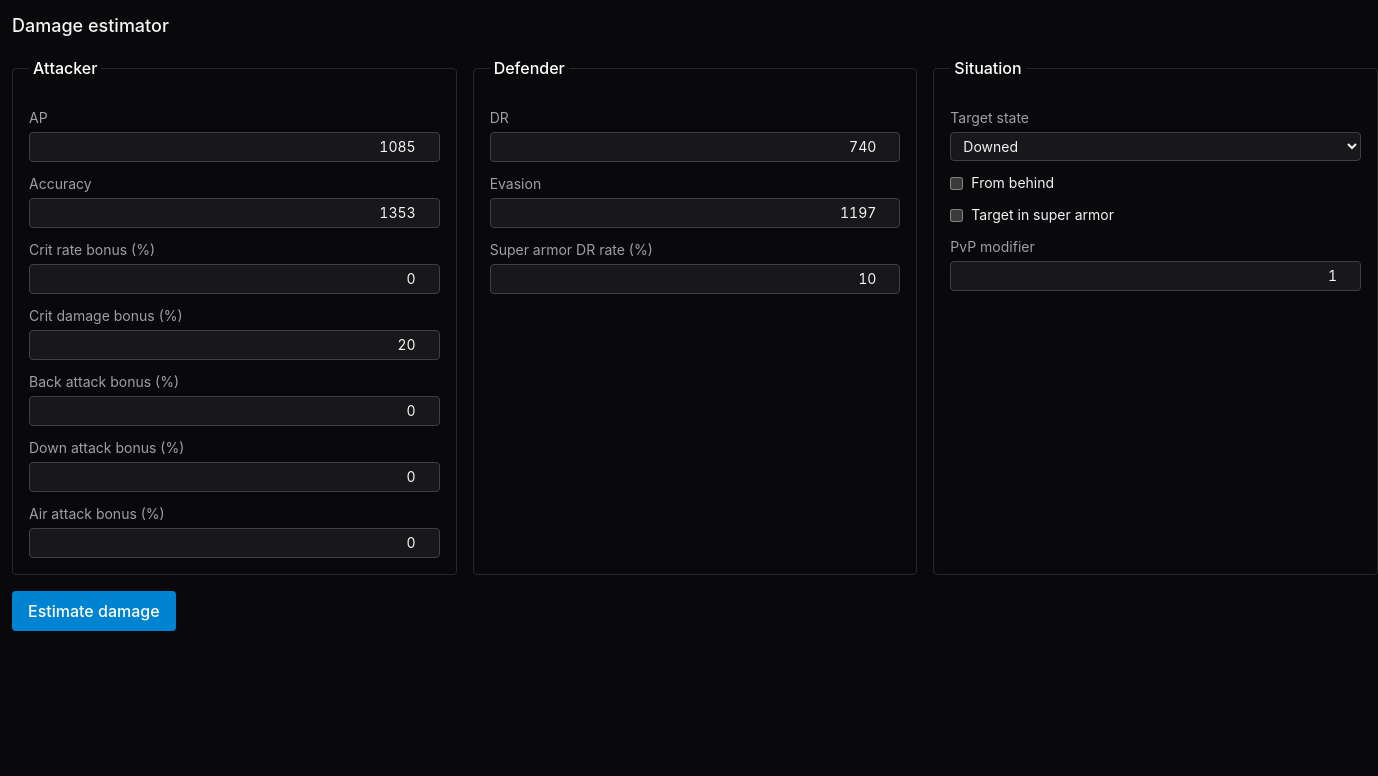
Test case: DamageEstimator › sends the values the user entered
Replace the text in the number field labelled "AP" with "1200": (234, 147) [29, 132, 440, 162]
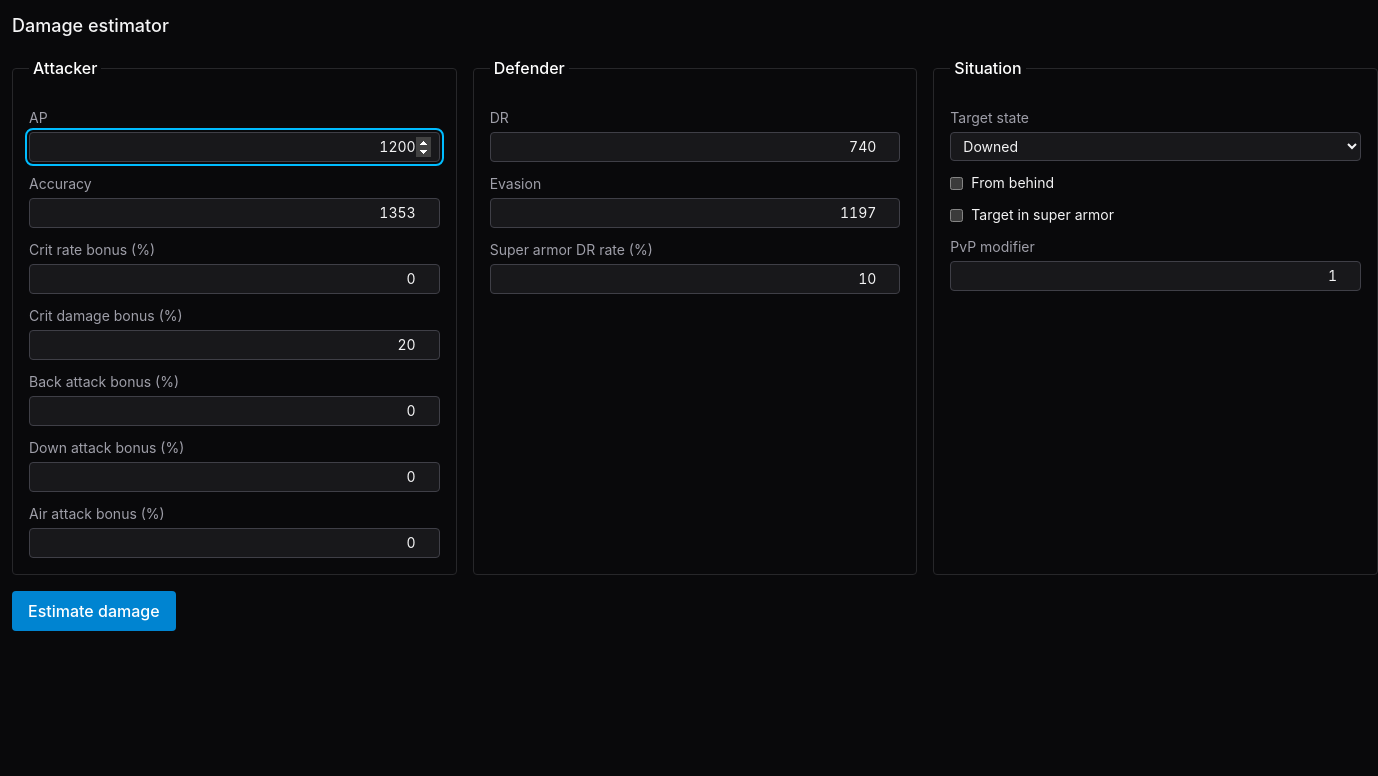
Select "Standing" in the dropdown labelled "Target state": (1156, 146) [950, 132, 1361, 161]
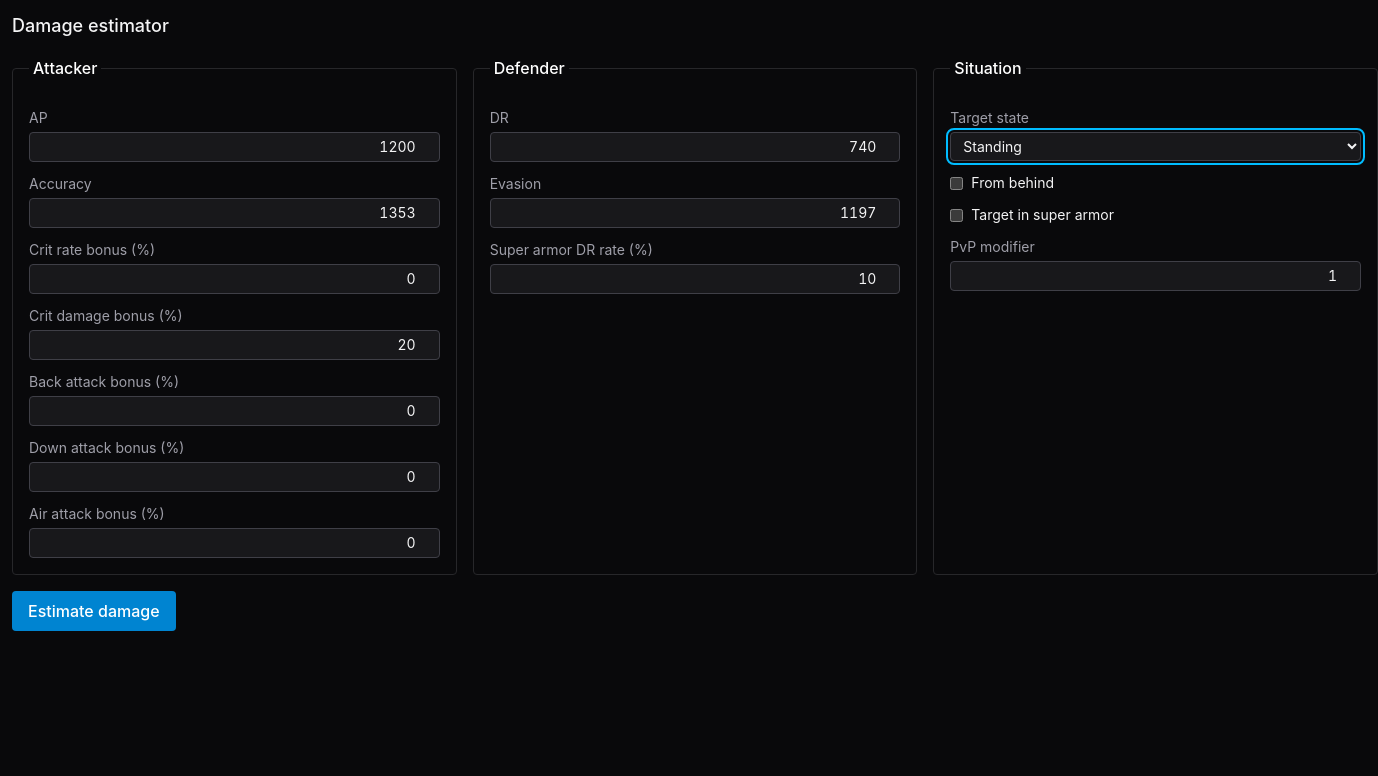
Click the checkbox labelled "From behind": (957, 183) [950, 176, 963, 190]
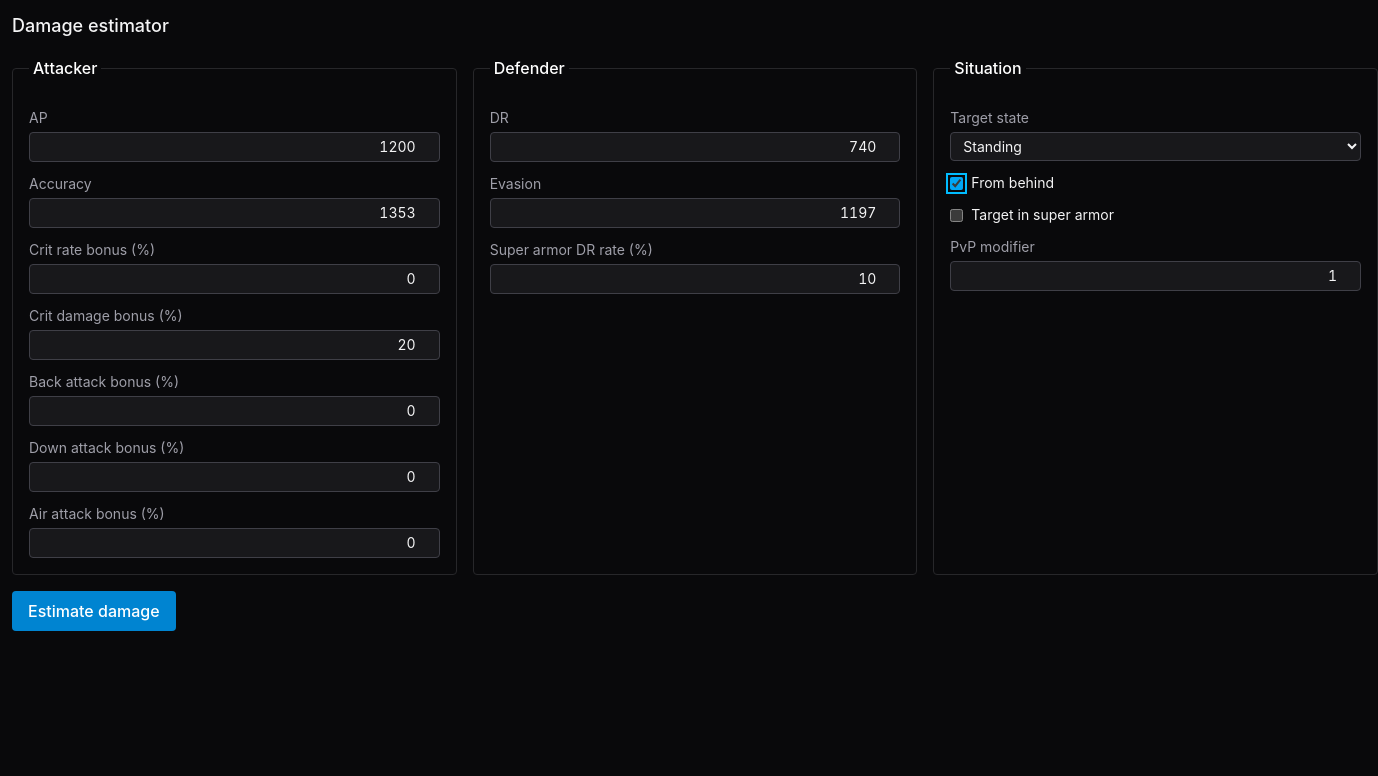
Click the checkbox labelled "Target in super armor": (957, 215) [950, 208, 963, 222]
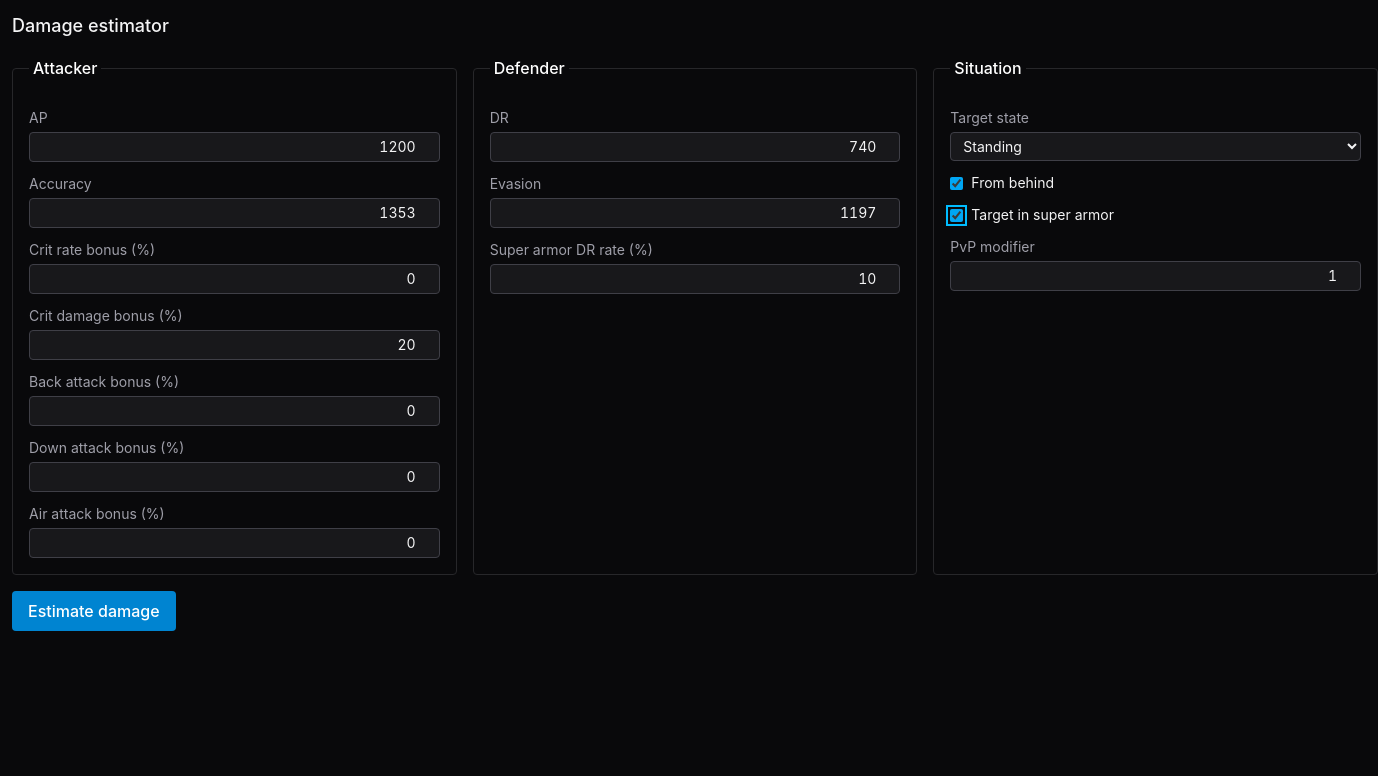
Click the button "Estimate damage": (94, 611) [12, 591, 176, 631]
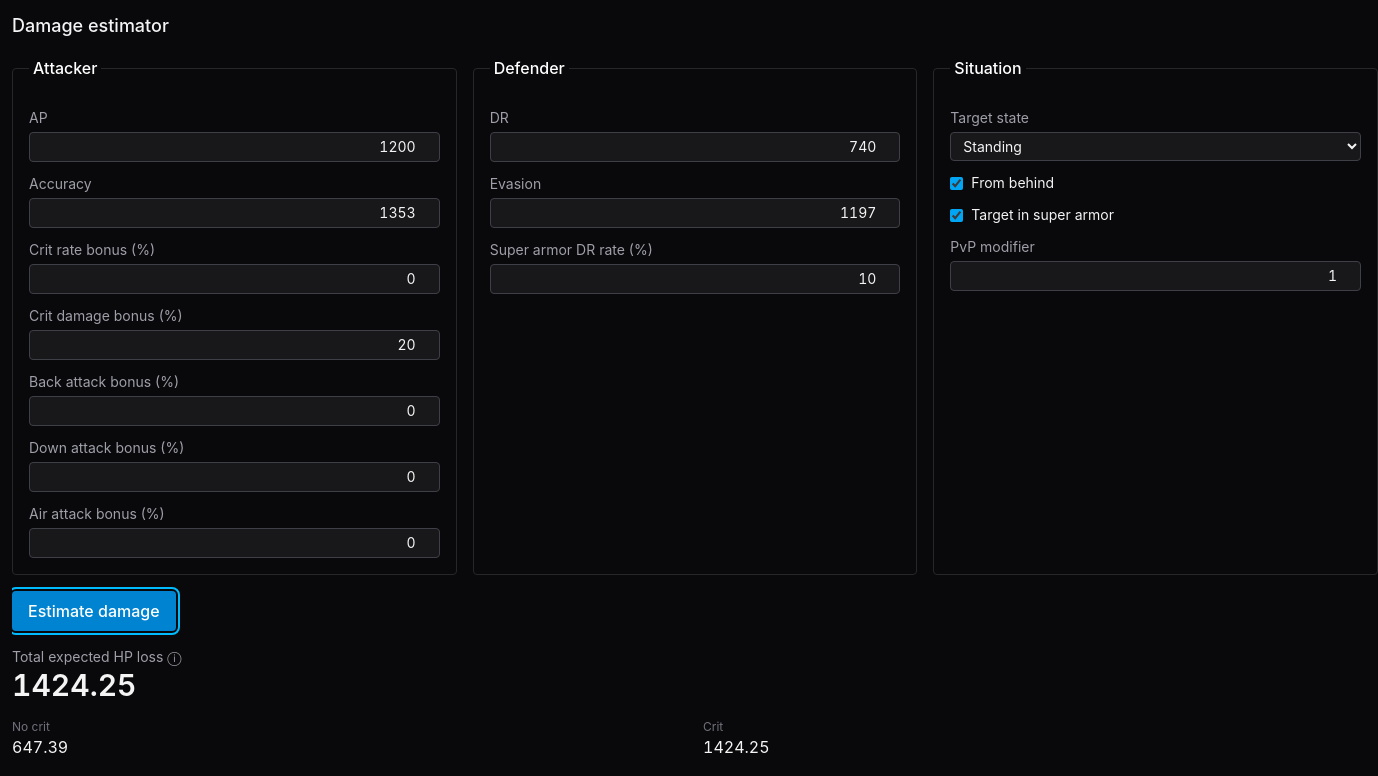
Expected: the text "1424.25" below "Total expected HP loss" is shown, [12, 667, 136, 703]
